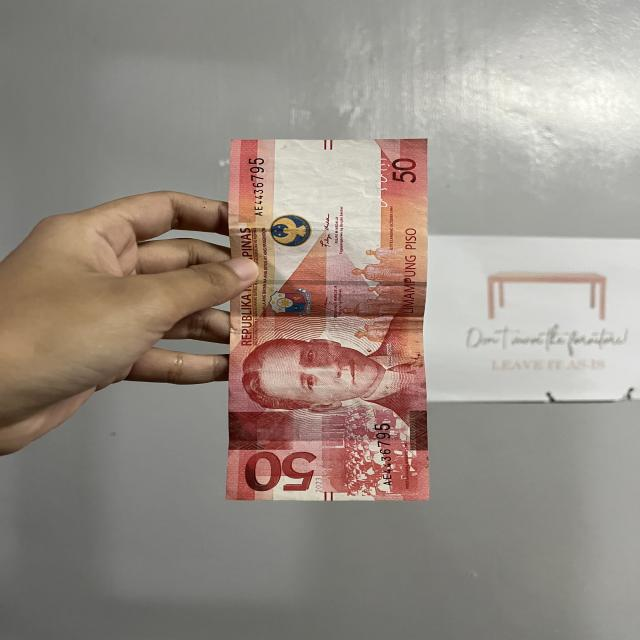concealed_value: (227, 410, 296, 448)
see_through_mark: (365, 158, 400, 222)
value: (239, 446, 325, 500)
